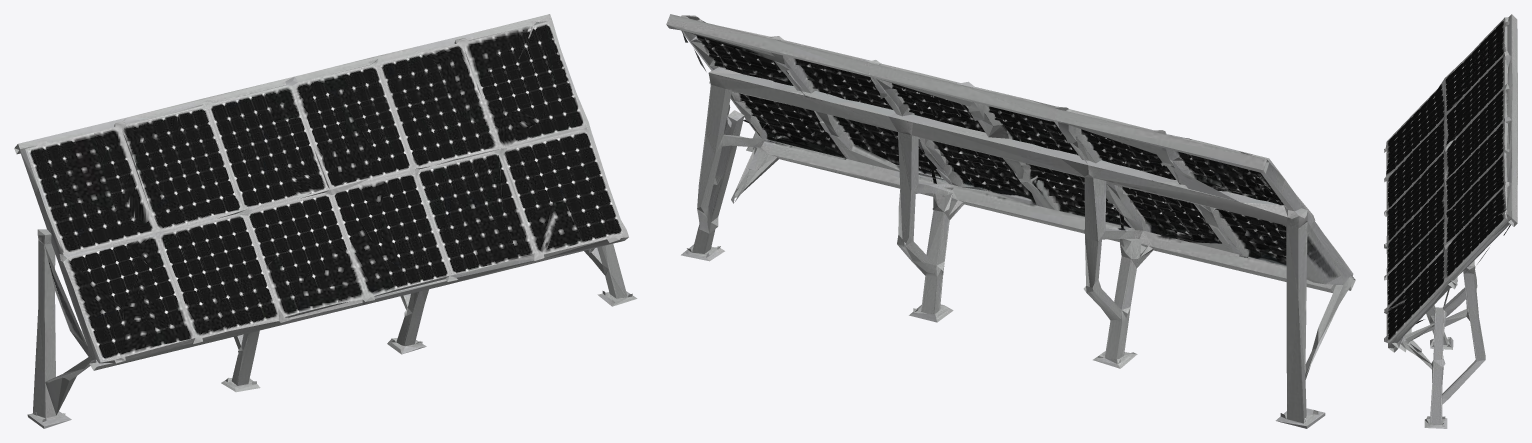
File: solar.glb
3 renders of one model, left to right at view 1: azimuth 30°, elevation 25°; view 2: azimuth 150°, elevation 25°; view 3: azimuth 270°, elevation 25°, orthographic. The views are drawn at different scales.
Bounding box in the file's own units: 1.9 × 0.7994 × 0.4869.
1 material, 1 textured.
